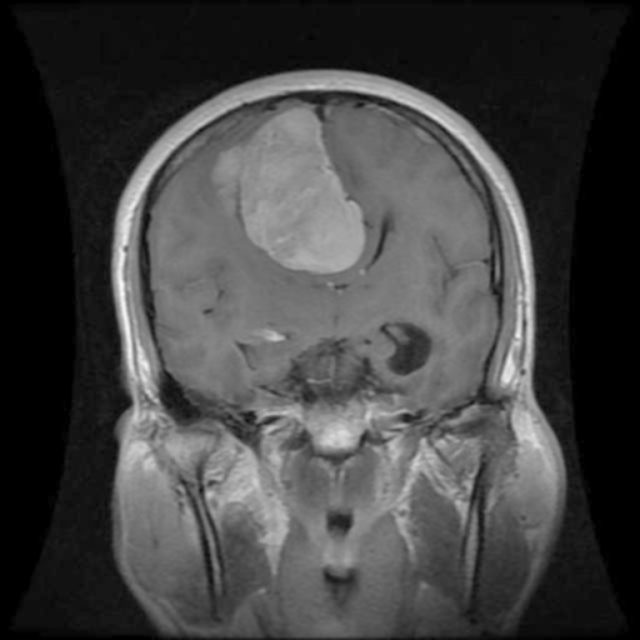meningioma tumor: (236, 101, 380, 280)
